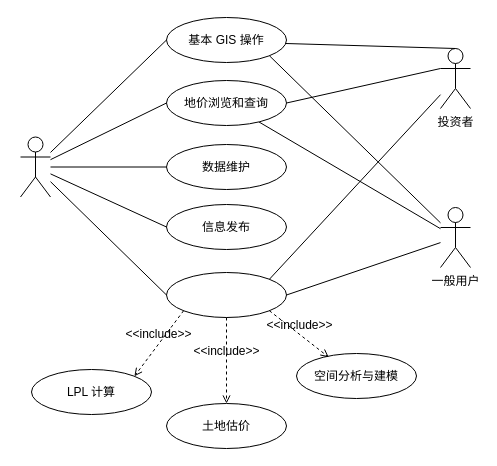
Image size: 497x466. Some labels were removed from this diagram. Here are the shapes that lost their labels. From the top down, the box of each, then its label:
(20, 136, 50, 197): 管理员
(166, 272, 286, 318): 地价分析
